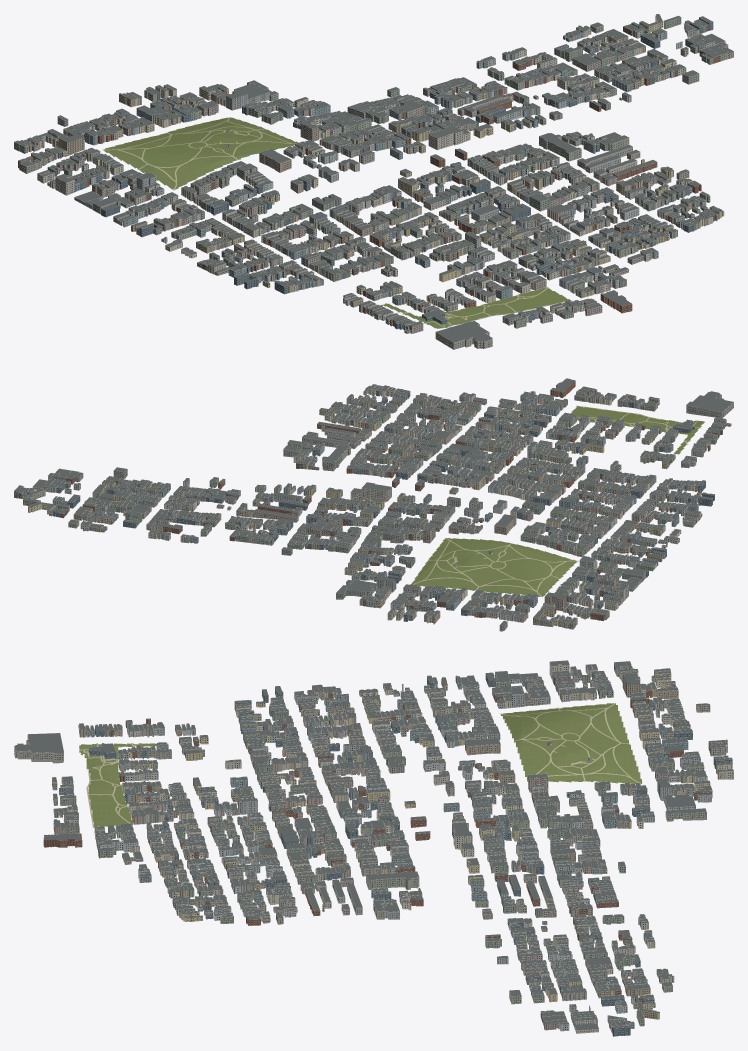
Rendered from neighborhood-lod.glb.
The picture shows the model from 3 angles, top to bottom: view 1: azimuth 30°, elevation 25°; view 2: azimuth 150°, elevation 25°; view 3: azimuth 270°, elevation 25°; orthographic projection. The views are drawn at different scales.
Visible parts, largest first — view 1: park / Alamo Square / distant / park turf 0, block -4 -3 / distant / weathered membrane roof, block -5 -3 / distant / weathered membrane roof, block -3 -3 / distant / weathered membrane roof, block -4 -4 / distant / weathered membrane roof, block -6 -2 / distant / weathered membrane roof, block -6 -3 / distant / weathered membrane roof, block -4 -1 / distant / weathered membrane roof, block -3 -1 / distant / weathered membrane roof, park / Duboce Park / distant / park turf 0, block -3 -4 / distant / weathered membrane roof, block -5 -2 / distant / weathered membrane roof (+36 smaller); view 2: park / Alamo Square / distant / park turf 0, block -4 -1 / distant / weathered membrane roof, block -4 -3 / distant / weathered membrane roof, block -5 -3 / distant / weathered membrane roof, block -4 -4 / distant / weathered membrane roof, block -3 -1 / distant / weathered membrane roof, block -3 -3 / distant / weathered membrane roof, block -6 -2 / distant / weathered membrane roof, block -6 -3 / distant / weathered membrane roof, block -3 -4 / distant / weathered membrane roof, block -6 0 / distant / weathered membrane roof, block -3 -2 / distant / weathered membrane roof (+31 smaller); view 3: park / Alamo Square / distant / park turf 0, block -4 -1 / distant / weathered membrane roof, block -4 -3 / distant / weathered membrane roof, block -3 -3 / distant / weathered membrane roof, block -6 -3 / distant / weathered membrane roof, block -5 -3 / distant / weathered membrane roof, block -3 -1 / distant / weathered membrane roof, park / Duboce Park / distant / park turf 0, block -4 -4 / distant / weathered membrane roof, block -6 -2 / distant / weathered membrane roof, block -3 -4 / distant / weathered membrane roof, block -2 -1 / distant / weathered membrane roof (+24 smaller).
Part boxes in pixels (left/top/right/bottom): park / Alamo Square / distant / park turf 0: left=104, top=117, right=297, bottom=189; block -4 -3 / distant / weathered membrane roof: left=399, top=186, right=551, bottom=252; block -5 -3 / distant / weathered membrane roof: left=307, top=208, right=458, bottom=272; block -3 -3 / distant / weathered membrane roof: left=508, top=158, right=655, bottom=230; block -4 -4 / distant / weathered membrane roof: left=464, top=233, right=602, bottom=291; block -6 -2 / distant / weathered membrane roof: left=154, top=188, right=301, bottom=247; block -6 -3 / distant / weathered membrane roof: left=200, top=236, right=349, bottom=286; block -4 -1 / distant / weathered membrane roof: left=293, top=104, right=432, bottom=151; block -3 -1 / distant / weathered membrane roof: left=392, top=88, right=537, bottom=134; park / Duboce Park / distant / park turf 0: left=383, top=287, right=570, bottom=328; block -3 -4 / distant / weathered membrane roof: left=556, top=214, right=677, bottom=273; block -5 -2 / distant / weathered membrane roof: left=244, top=151, right=389, bottom=229; park / Alamo Square / distant / park turf 0: left=411, top=538, right=577, bottom=596; block -4 -1 / distant / weathered membrane roof: left=329, top=497, right=454, bottom=551; block -4 -3 / distant / weathered membrane roof: left=436, top=432, right=554, bottom=481; block -5 -3 / distant / weathered membrane roof: left=515, top=449, right=638, bottom=500; block -4 -4 / distant / weathered membrane roof: left=477, top=403, right=610, bottom=449; block -3 -1 / distant / weathered membrane roof: left=247, top=483, right=368, bottom=536; block -3 -3 / distant / weathered membrane roof: left=350, top=411, right=475, bottom=455; block -6 -2 / distant / weathered membrane roof: left=553, top=501, right=665, bottom=551; block -6 -3 / distant / weathered membrane roof: left=608, top=474, right=714, bottom=521; block -3 -4 / distant / weathered membrane roof: left=404, top=392, right=516, bottom=431; block -6 0 / distant / weathered membrane roof: left=461, top=586, right=585, bottom=625; block -3 -2 / distant / weathered membrane roof: left=311, top=444, right=422, bottom=491; park / Alamo Square / distant / park turf 0: left=501, top=703, right=641, bottom=783; block -4 -1 / distant / weathered membrane roof: left=465, top=774, right=587, bottom=843; block -4 -3 / distant / weathered membrane roof: left=228, top=787, right=356, bottom=845; block -3 -3 / distant / weathered membrane roof: left=228, top=838, right=353, bottom=896; block -6 -3 / distant / weathered membrane roof: left=235, top=684, right=353, bottom=744; block -5 -3 / distant / weathered membrane roof: left=225, top=740, right=352, bottom=794; block -3 -1 / distant / weathered membrane roof: left=461, top=836, right=584, bottom=899; park / Duboce Park / distant / park turf 0: left=79, top=743, right=156, bottom=827; block -4 -4 / distant / weathered membrane roof: left=116, top=788, right=236, bottom=847; block -6 -2 / distant / weathered membrane roof: left=349, top=688, right=469, bottom=738; block -3 -4 / distant / weathered membrane roof: left=122, top=846, right=239, bottom=892; block -2 -1 / distant / weathered membrane roof: left=475, top=896, right=593, bottom=956.
Bounding box in the file's own units: 1318 × 78.29 × 1164.
Materials: 26 (17 with a texture image).
